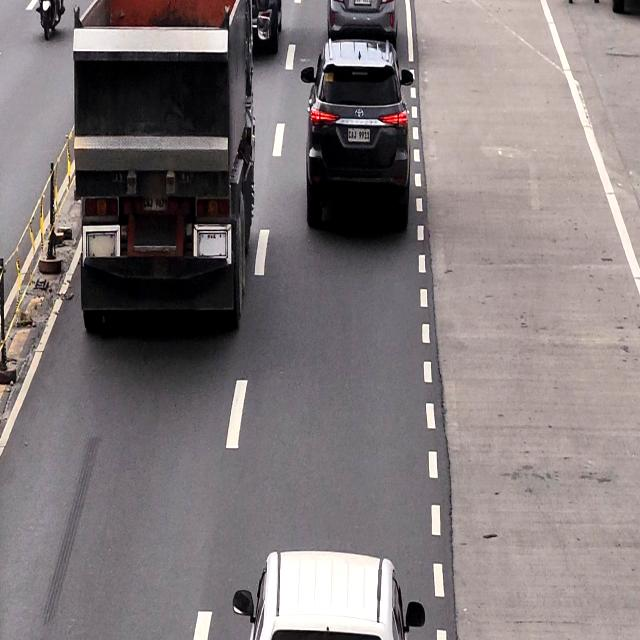Car: (306, 44, 410, 214), (242, 547, 409, 640), (324, 0, 400, 35)
License-Plate: (139, 195, 168, 213), (347, 126, 372, 146)
Truck: (72, 0, 250, 327)
